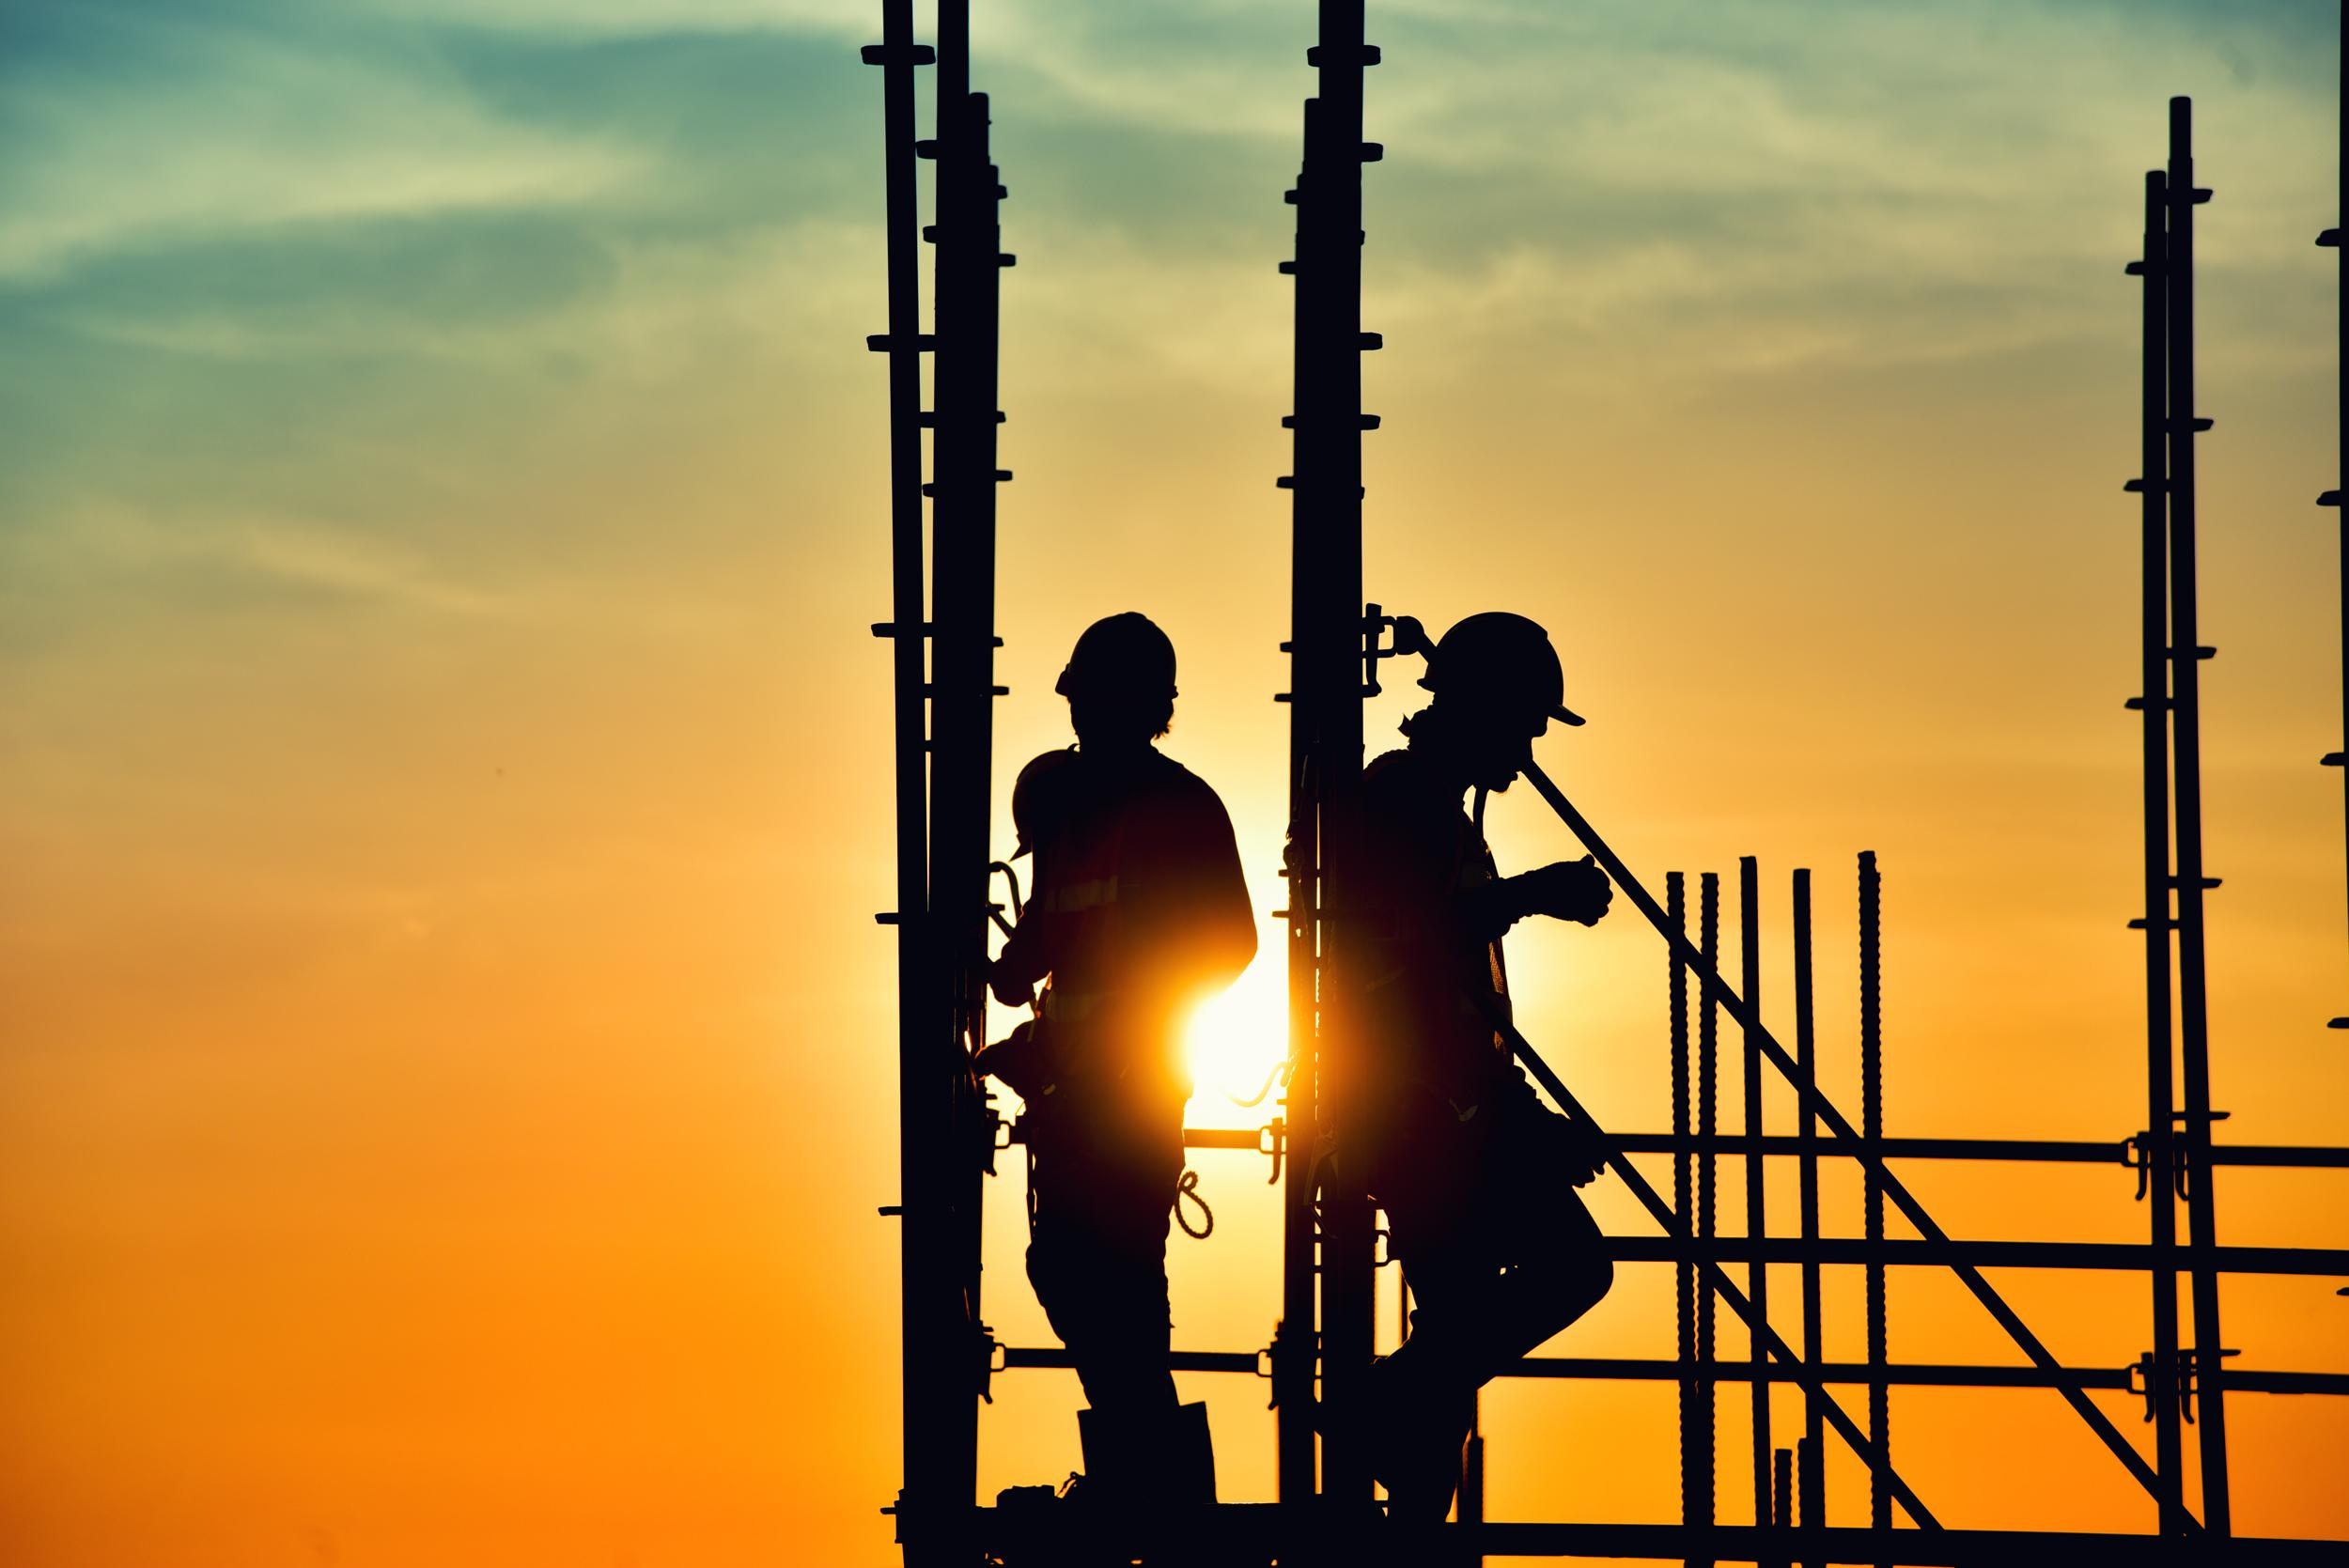helmet: (1416, 605, 1588, 731), (1052, 609, 1192, 733)
